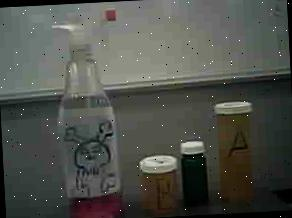Bottle A: (212, 99, 258, 204)
Bottle B: (137, 155, 180, 212)
Bottle C: (178, 138, 211, 207)
hazard: (45, 5, 132, 218)
